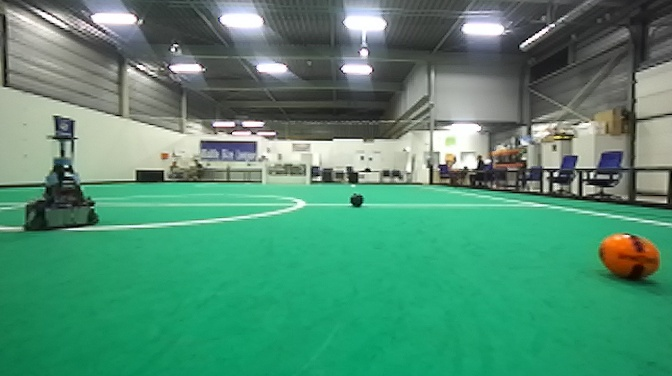ball: (591, 228, 664, 287), (349, 190, 366, 208)
goal: (262, 163, 312, 188)
goalpost: (305, 162, 311, 187), (261, 163, 267, 186)
robot: (19, 111, 103, 237)
